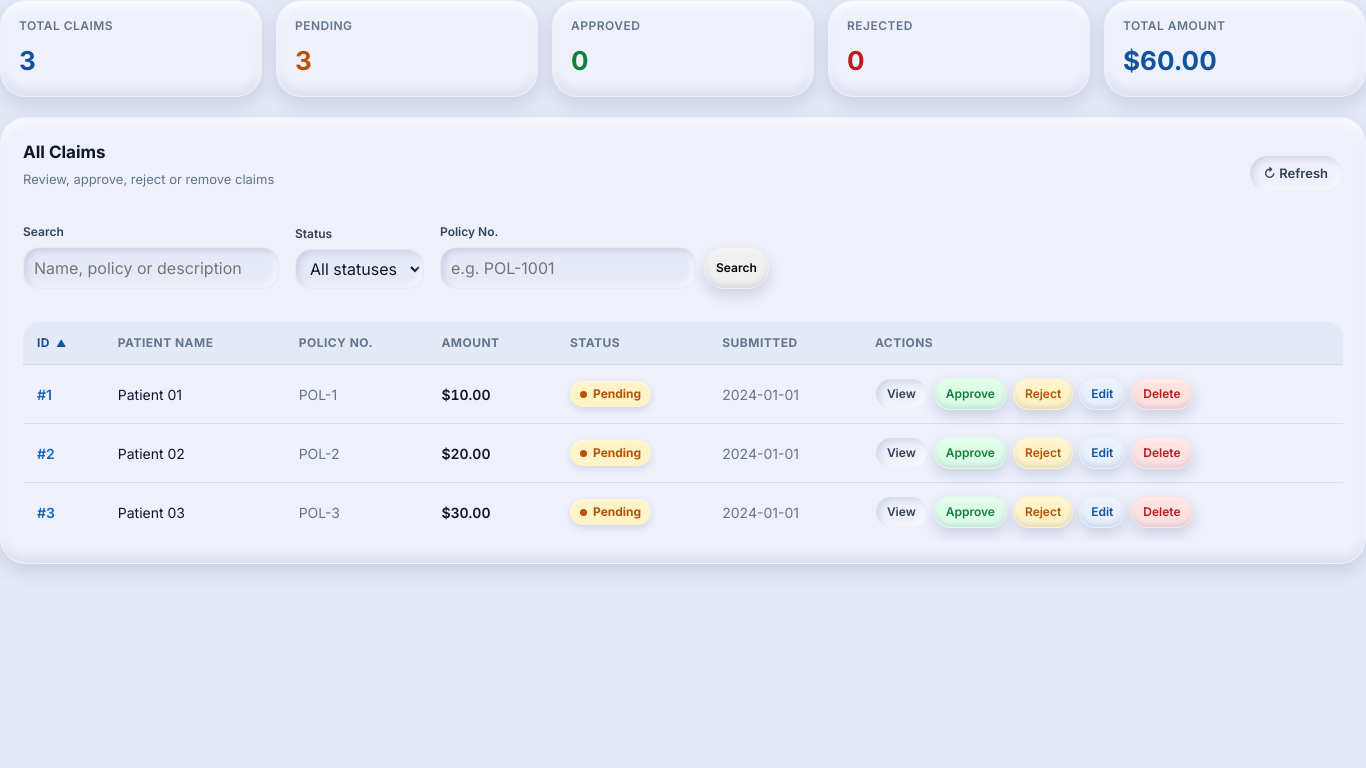
Test: ClaimList › narrows the visible rows with the client-side search box
expect the text "Patient 01" is shown: met, box [104,364,285,424]
Type "Patient 02" into the field labelled "Search" at (151, 268), box [23,247,279,289]
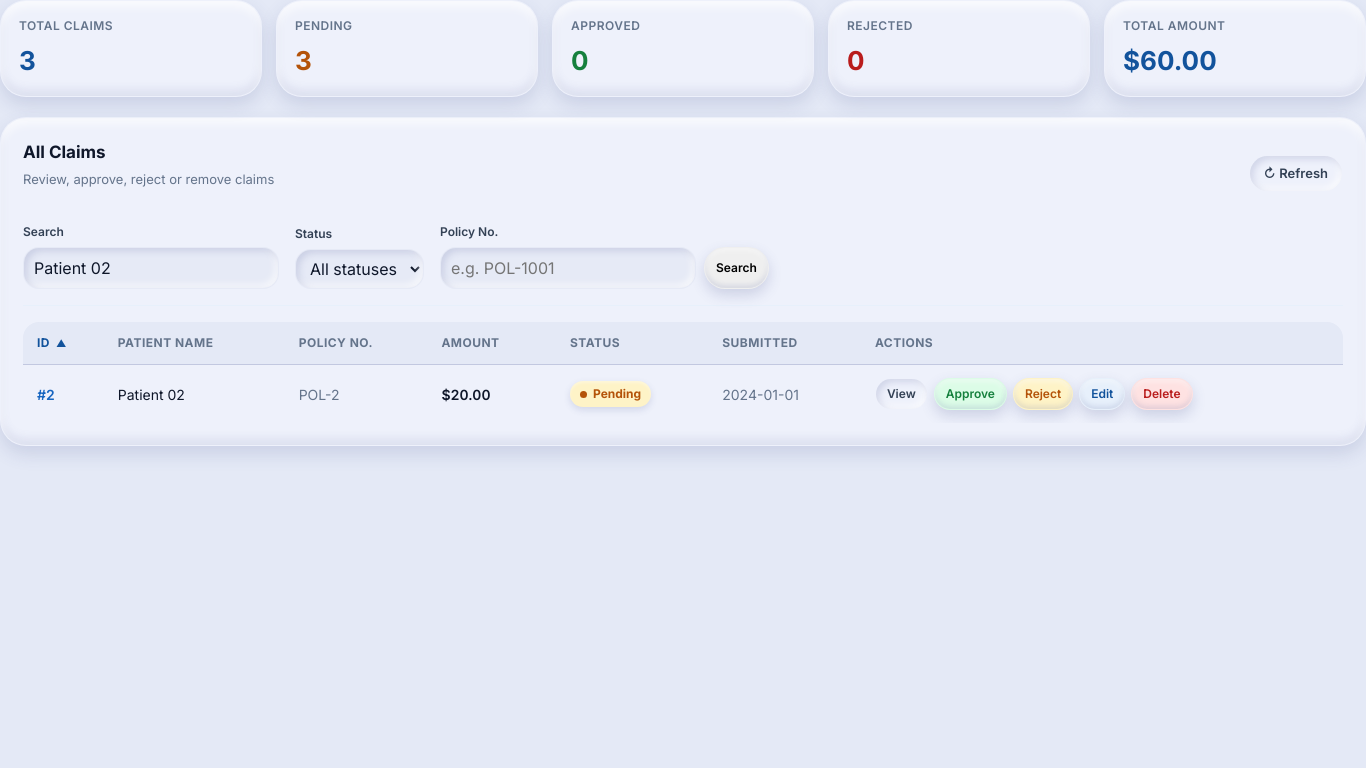
expect the text "Patient 02" is shown: met, box [104,364,285,423]
expect the text "Patient 01" is gone: met
